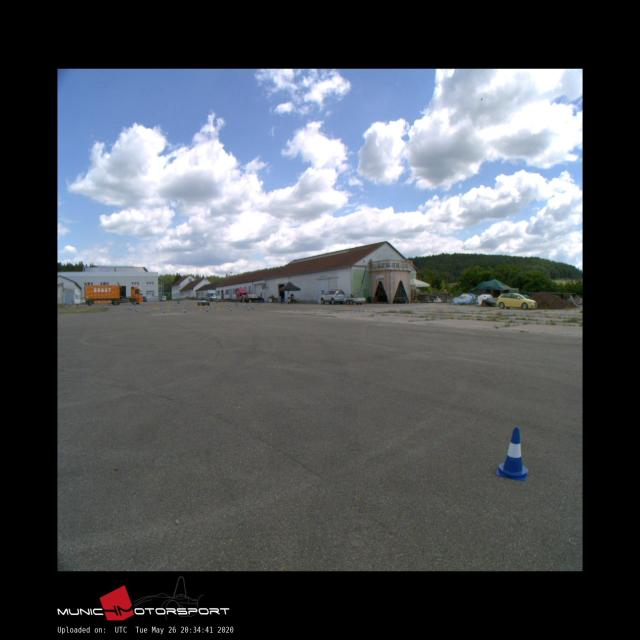blue_cone: (496, 427, 528, 481)
